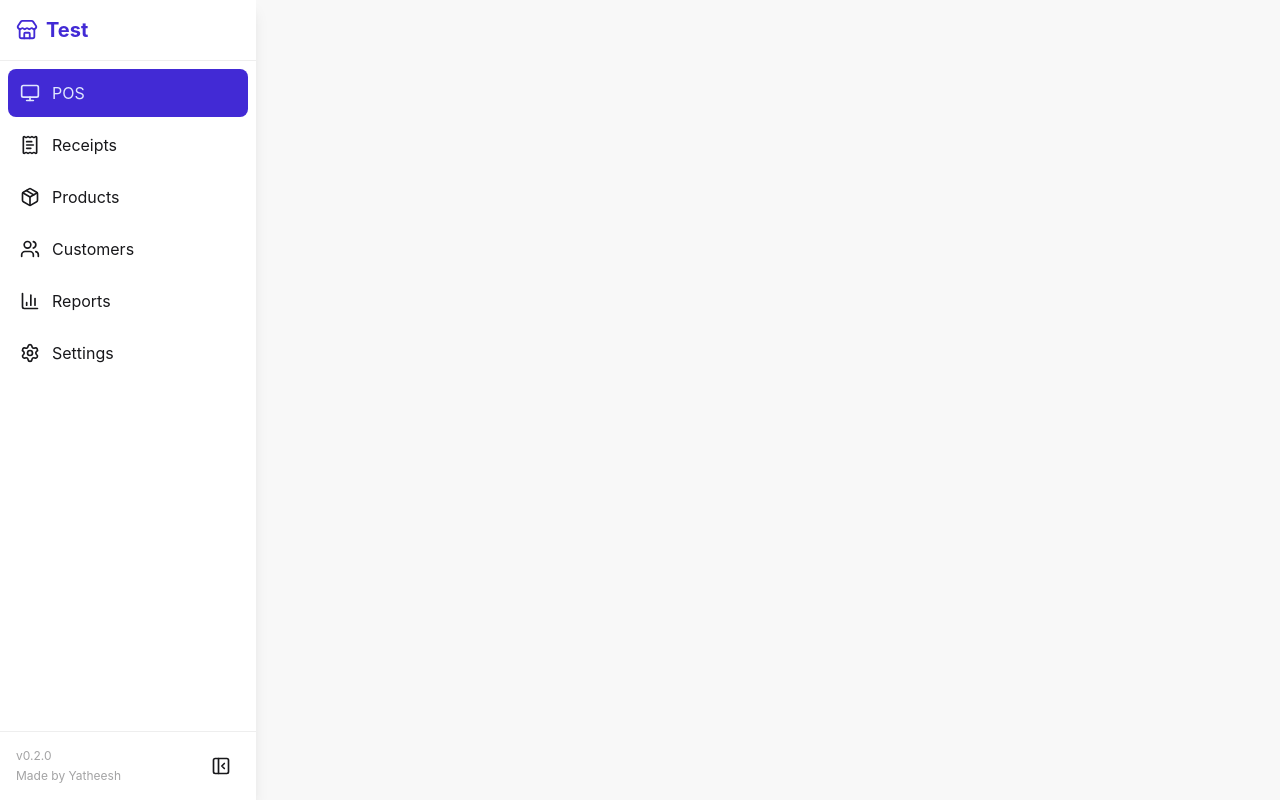
Layout - PIN gating › shows PIN modal when clicking Settings with admin_pin set
Click the button "Settings".
click(128, 353)  # box [8,329,248,377]
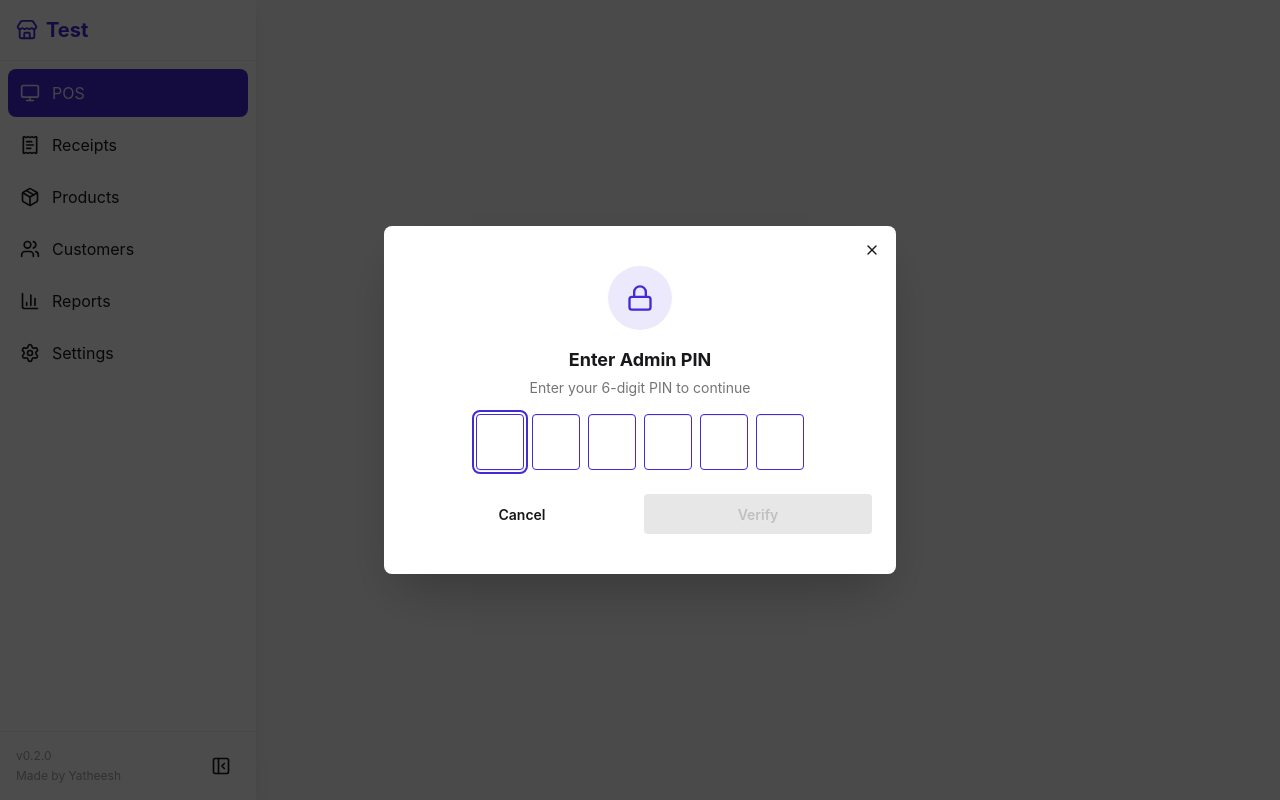
Expected: the heading "Enter Admin PIN" is shown, [569,349,711,370]
